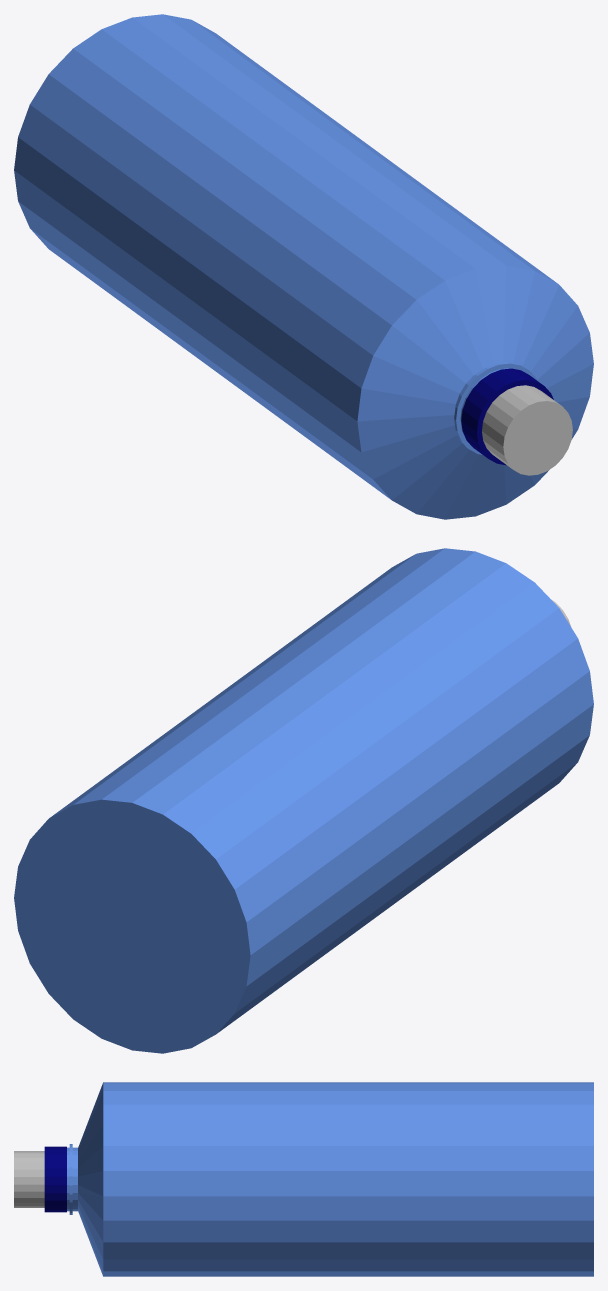
The picture shows the model from 3 angles, top to bottom: view 1: azimuth 30°, elevation 25°; view 2: azimuth 150°, elevation 25°; view 3: azimuth 270°, elevation 25°; orthographic projection. The views are drawn at different scales.
Visible parts, largest first — view 1: bottle; view 2: bottle; view 3: bottle.
Boxes of the visible parts, x1,y1,x2,y2 form: bottle: [14, 14, 593, 519]; bottle: [14, 548, 593, 1053]; bottle: [14, 1082, 593, 1276].
Size of the model in its own units: 2.76 by 2.76 by 8.19.
